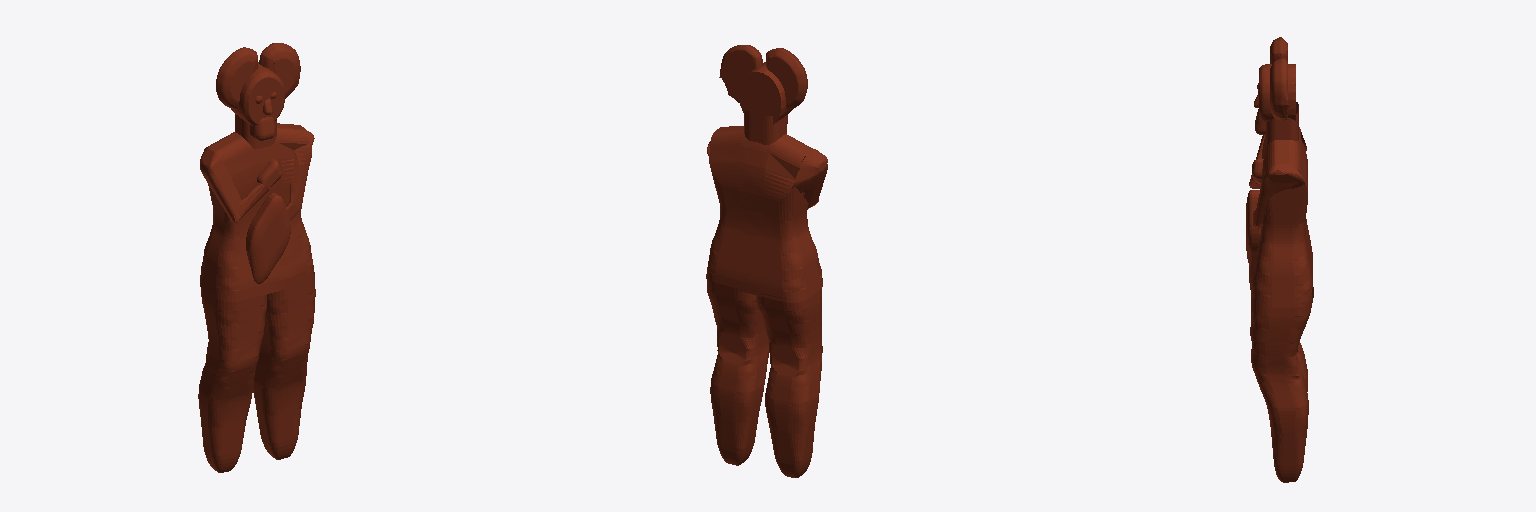
Rendered from Statue6.obj.
The picture shows the model from 3 angles: view 1: azimuth 30°, elevation 25°; view 2: azimuth 150°, elevation 25°; view 3: azimuth 270°, elevation 25°; orthographic projection.
Visible parts, largest first — view 1: Cube; view 2: Cube; view 3: Cube.
Boxes of the visible parts, x1,y1,x2,y2 form: Cube: [198, 43, 315, 472]; Cube: [706, 45, 827, 477]; Cube: [1246, 37, 1313, 482].
Size of the model in its own units: 2.6 by 9.71 by 1.41.